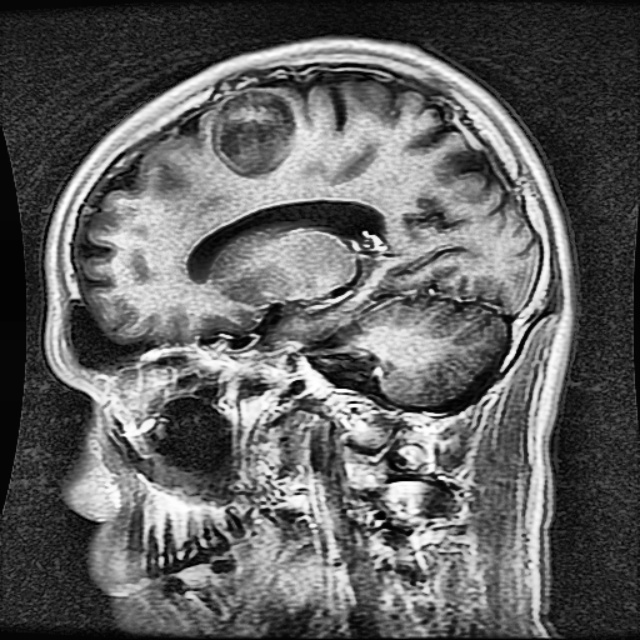Meningioma: (214, 89, 295, 175)
